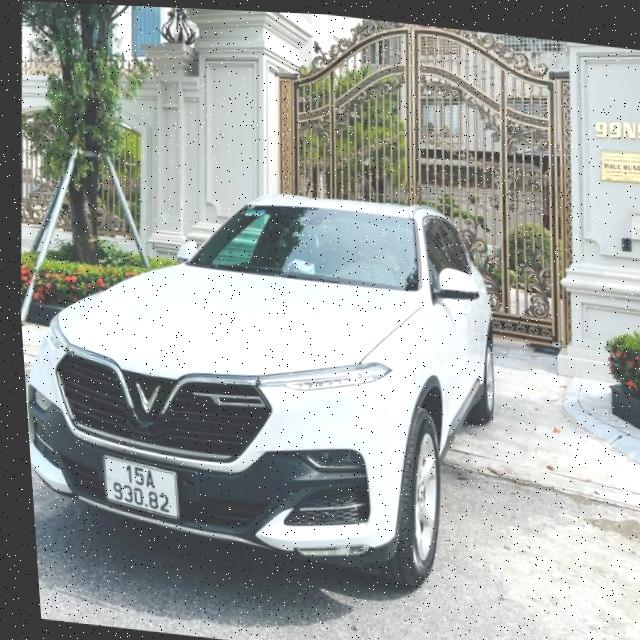car: (11, 165, 529, 601)
plate: (94, 452, 187, 521)
